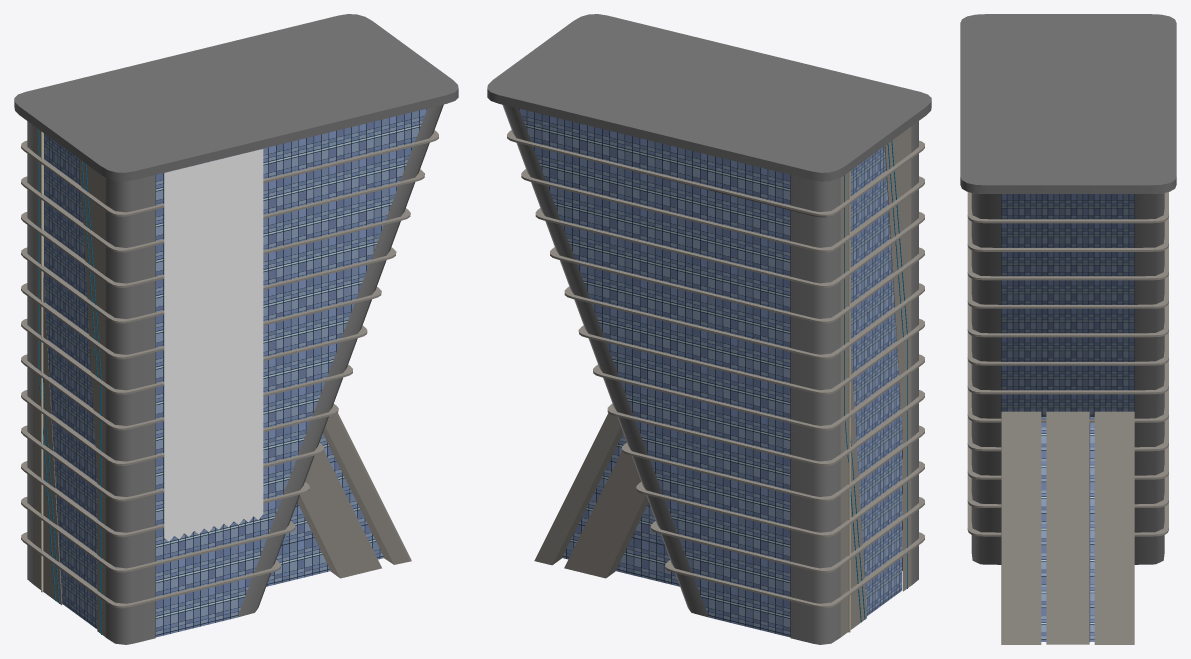
File: Building_Kyowon_001_2st_L3.fbx
3 views of the same model, side by side, from view 1: azimuth 30°, elevation 25°; view 2: azimuth 150°, elevation 25°; view 3: azimuth 270°, elevation 25° (orthographic).
Visible parts, largest first — view 1: Building_Kyowon_001_2st_L3; view 2: Building_Kyowon_001_2st_L3; view 3: Building_Kyowon_001_2st_L3.
Part boxes in pixels (<box>): Building_Kyowon_001_2st_L3: <box>14,14,458,644</box>; Building_Kyowon_001_2st_L3: <box>487,14,931,644</box>; Building_Kyowon_001_2st_L3: <box>960,14,1176,644</box>.
Size of the model in its own units: 50.17 by 26.79 by 65.36.
